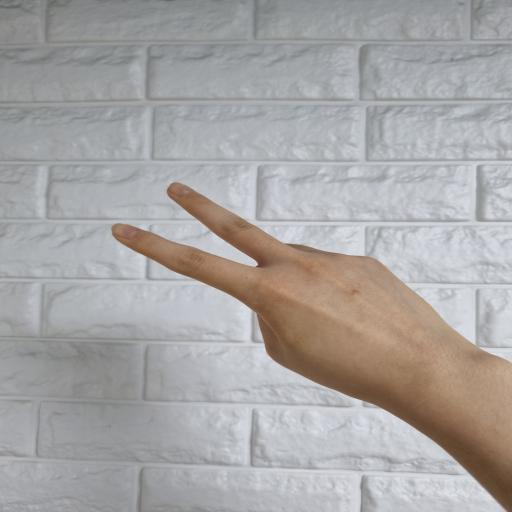Scissors: (111, 182, 512, 512)
